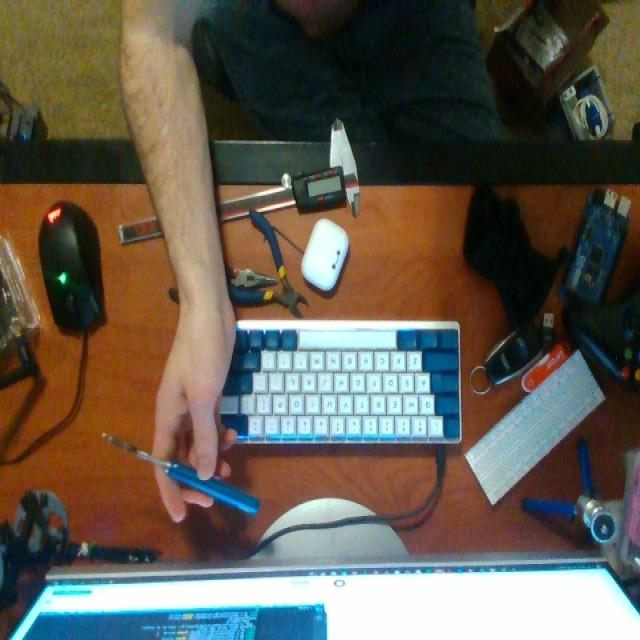keyboard-with-hands: (196, 322, 462, 440)
